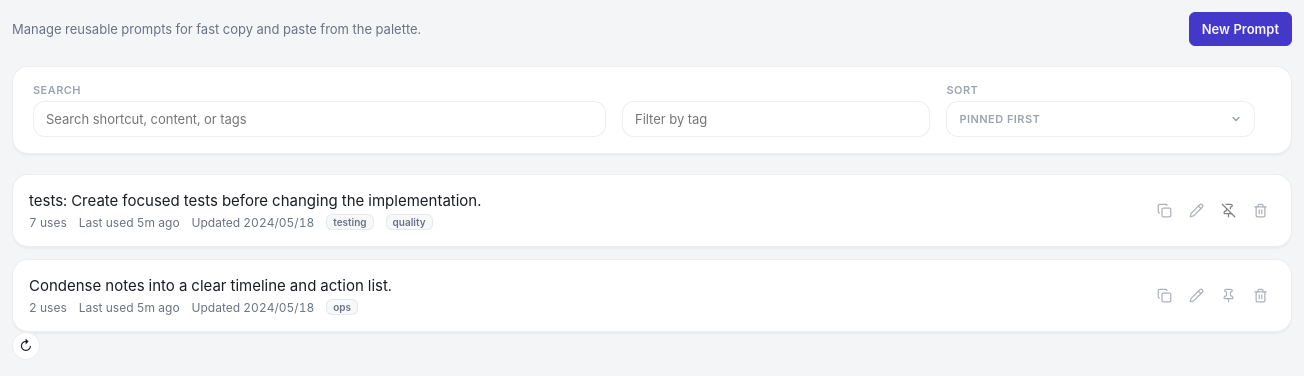
PromptPalettePage › copy tooltip shows on hover in idle state
Check: the heading "tests: Create focused tests" is shown, box [29,191,481,210]
Hover over the copy button — tooltip portal should appear with "Copy"
Hover over the button named "Copy" in the row of "quality": (1164, 210) [1149,196,1179,226]
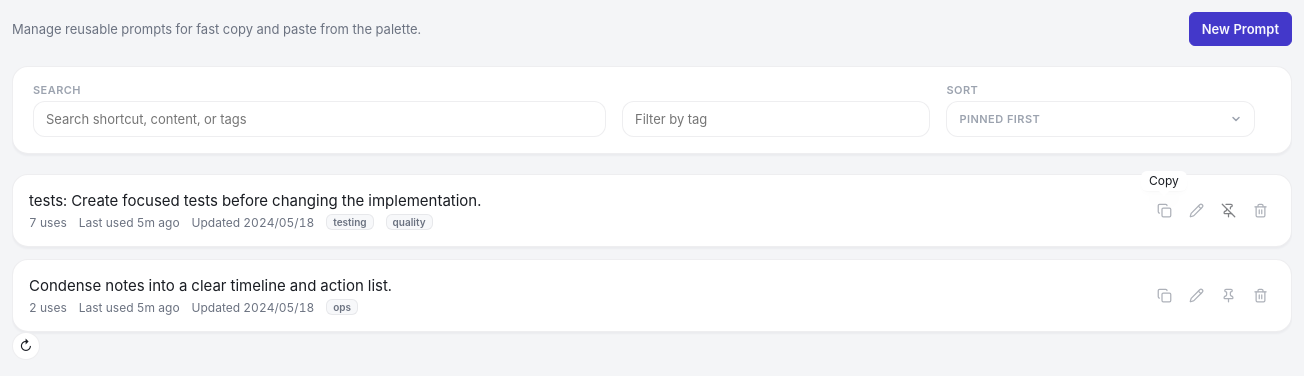
Check: the tooltip "Copy" is shown, box [1141,171,1187,191]
